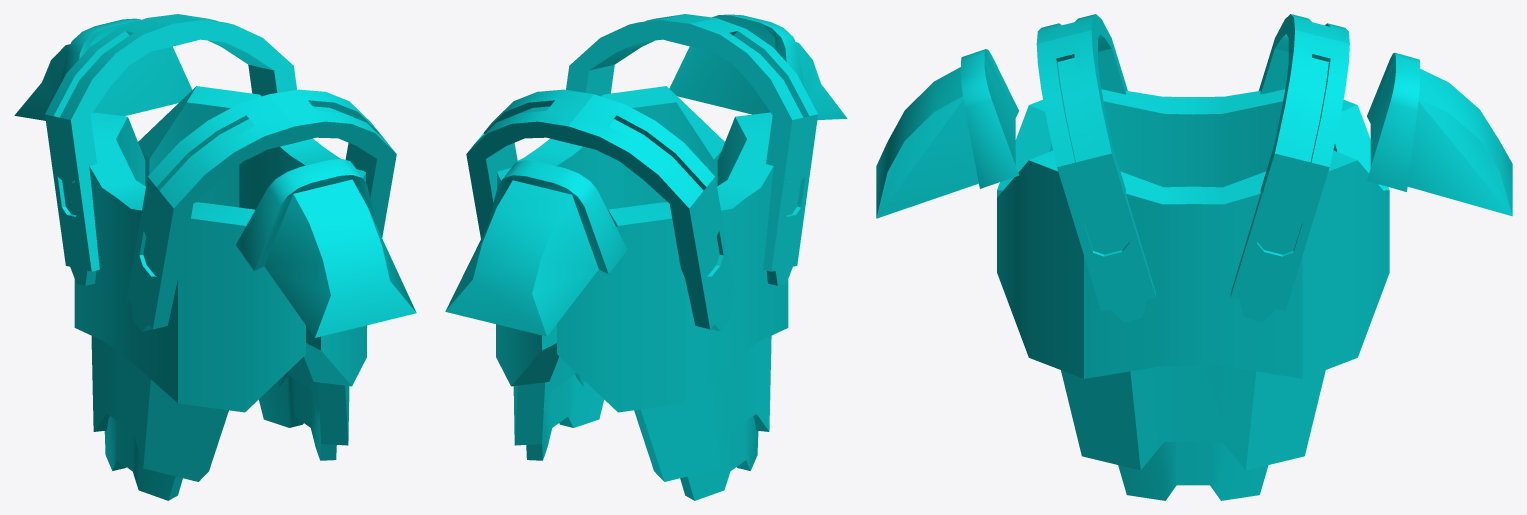
File: ARMOR .fbx
3 renders of one model, left to right at view 1: azimuth 30°, elevation 25°; view 2: azimuth 150°, elevation 25°; view 3: azimuth 270°, elevation 25°, orthographic. The views are drawn at different scales.
Visible parts, largest first — view 1: Cube; view 2: Cube; view 3: Cube.
Boxes of the visible parts, x1=… form: Cube: x1=14, y1=14, x2=416, y2=500; Cube: x1=445, y1=14, x2=847, y2=500; Cube: x1=876, y1=14, x2=1512, y2=500.
Bounding box in the file's own units: 193 × 330 × 451.
